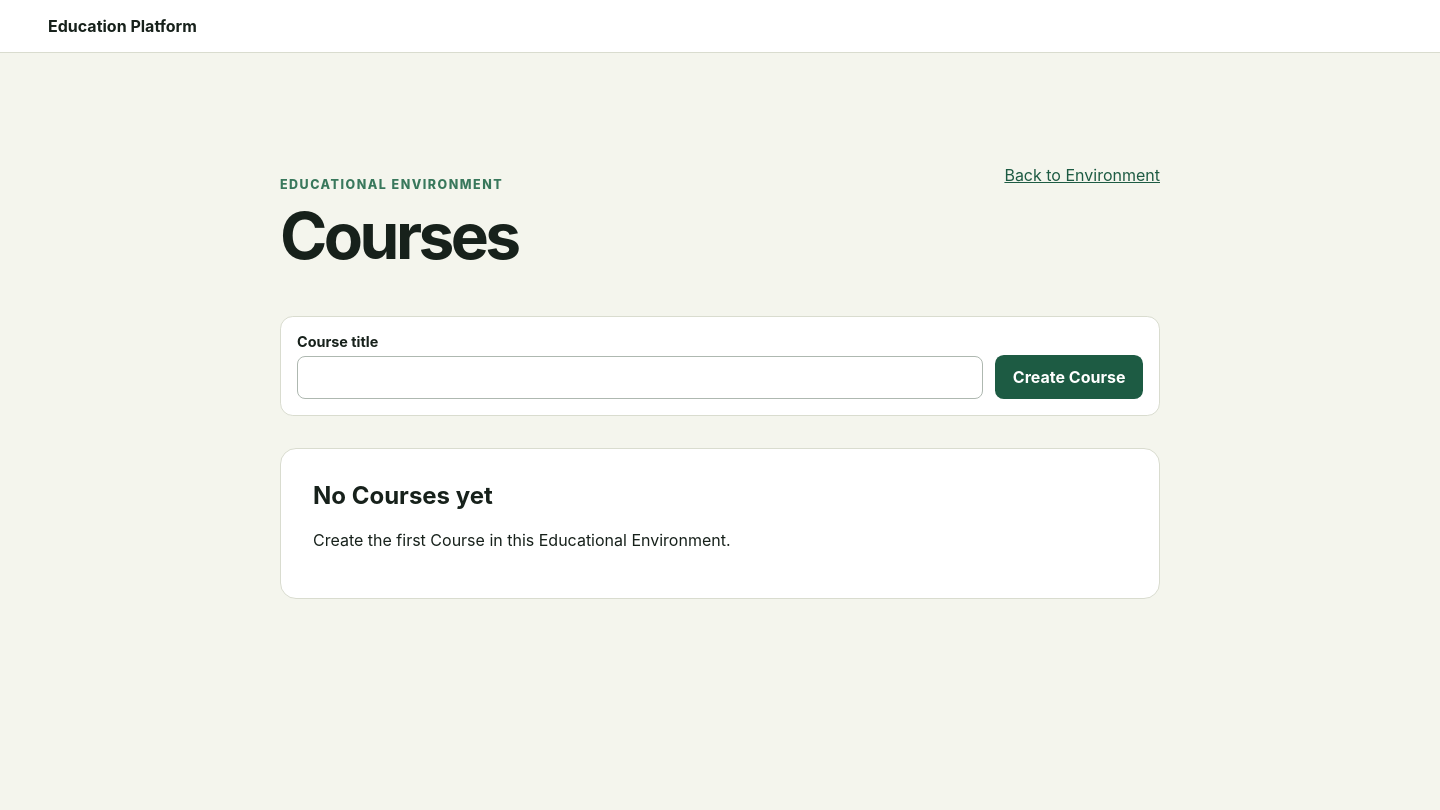
Course UI › creates with title only, updates the list, and opens the created Course
The image size is (1440, 810).
Step 1. Type "Foundations" into the field labelled "Course title" → [640, 378], box [297,356,983,399]
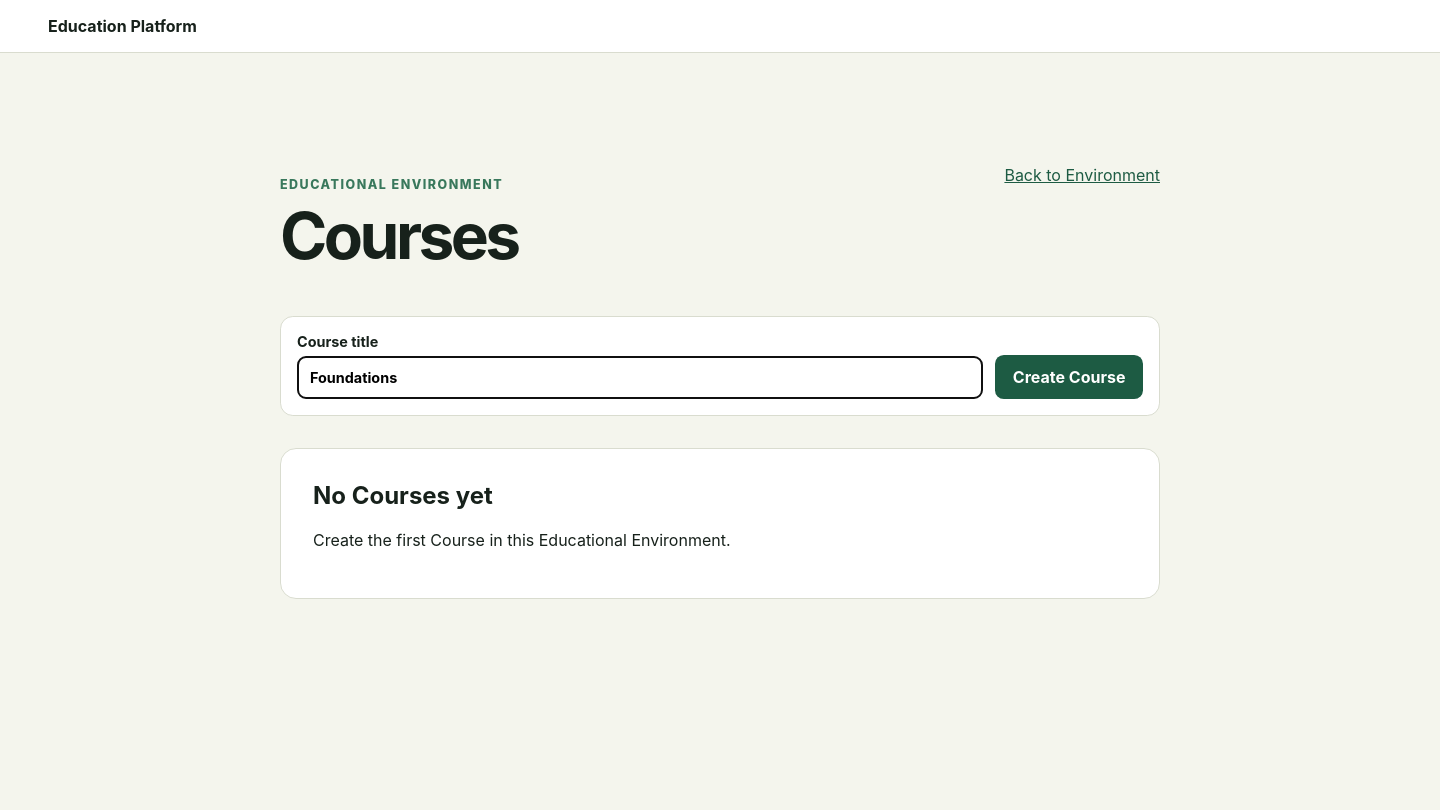
Step 2. Click the button "Create Course" → [1069, 377], box [995,355,1143,399]
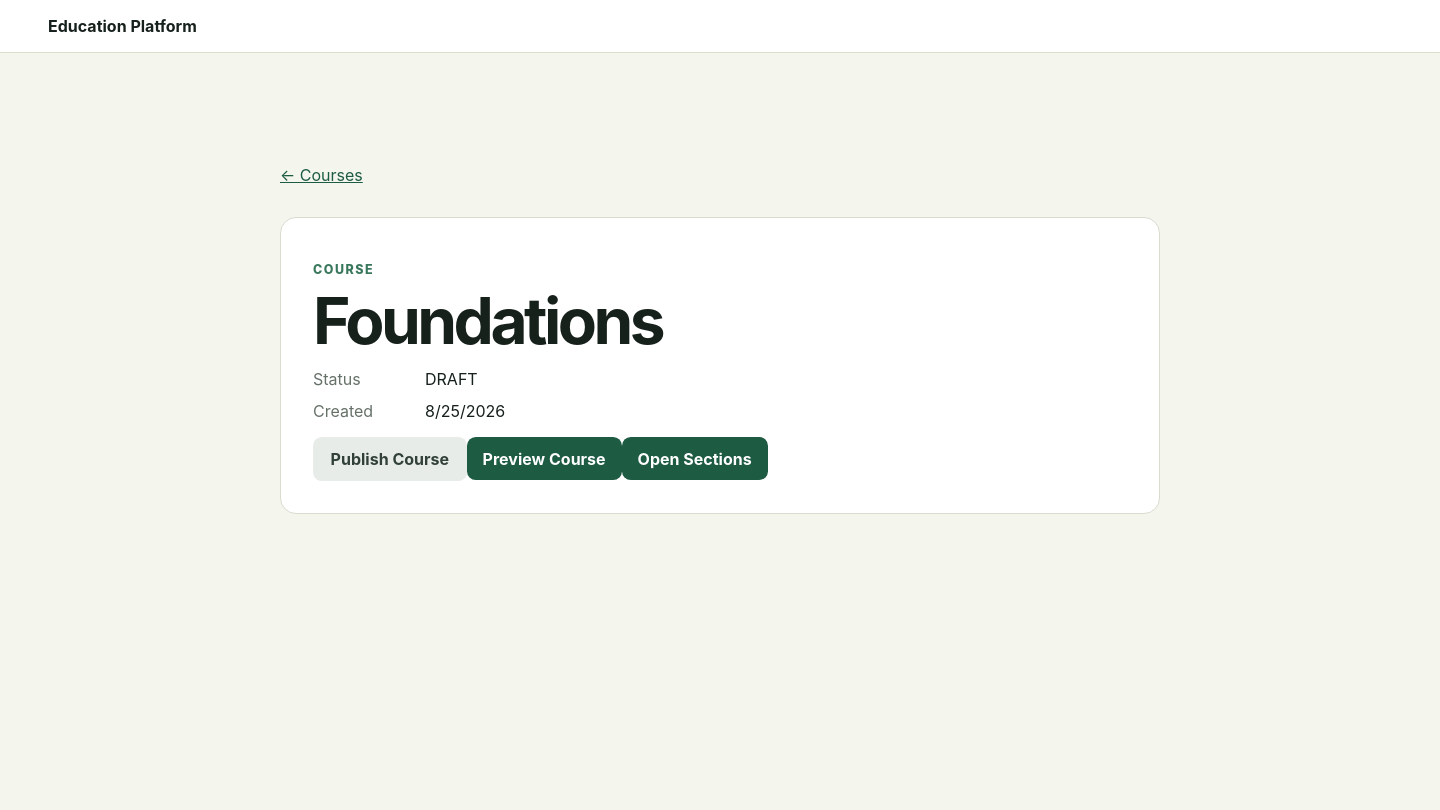
Expected: the heading "Foundations" is shown, [313,282,662,359]
Expected: the text "DRAFT" is shown, [425,369,478,389]
